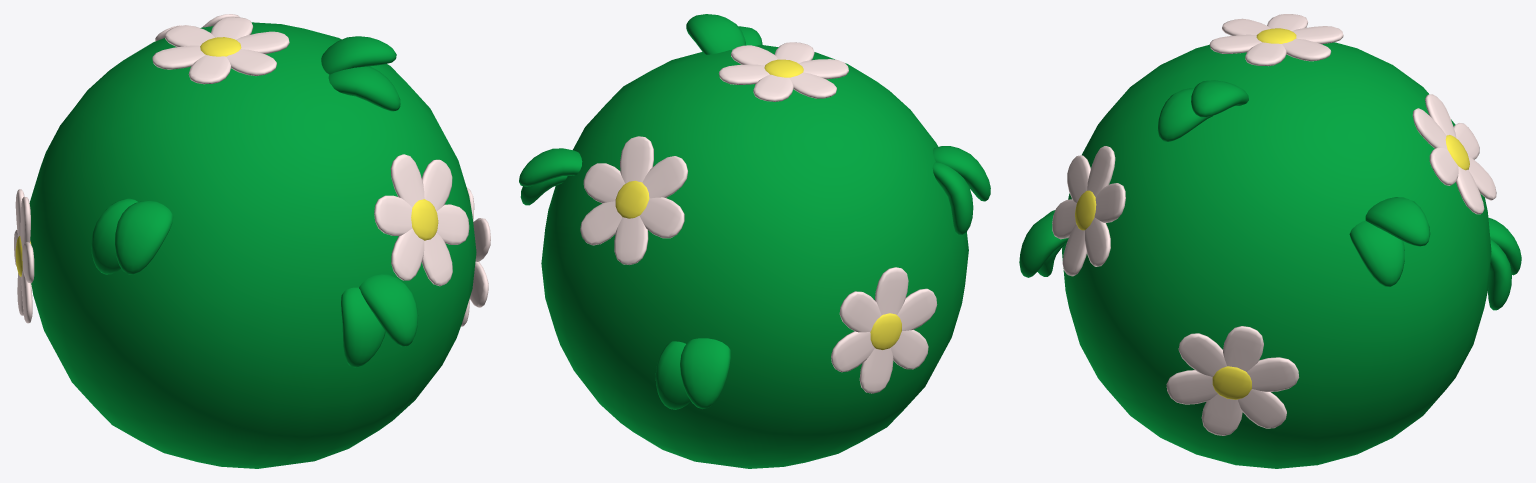
The model's file is Town_12_Bush_2.glb.
The picture shows the model from 3 angles, left to right: view 1: azimuth 30°, elevation 25°; view 2: azimuth 150°, elevation 25°; view 3: azimuth 270°, elevation 25°; orthographic projection. The views are drawn at different scales.
Parts seen in each view (by area): view 1: Town_12_Bush_2; view 2: Town_12_Bush_2; view 3: Town_12_Bush_2.
Part boxes in pixels (<box>): Town_12_Bush_2: <box>14,14,490,468</box>; Town_12_Bush_2: <box>519,14,990,468</box>; Town_12_Bush_2: <box>1019,14,1521,468</box>.
Bounding box in the file's own units: 1.38 × 1.32 × 1.5.
Materials: 1 (1 with a texture image).
